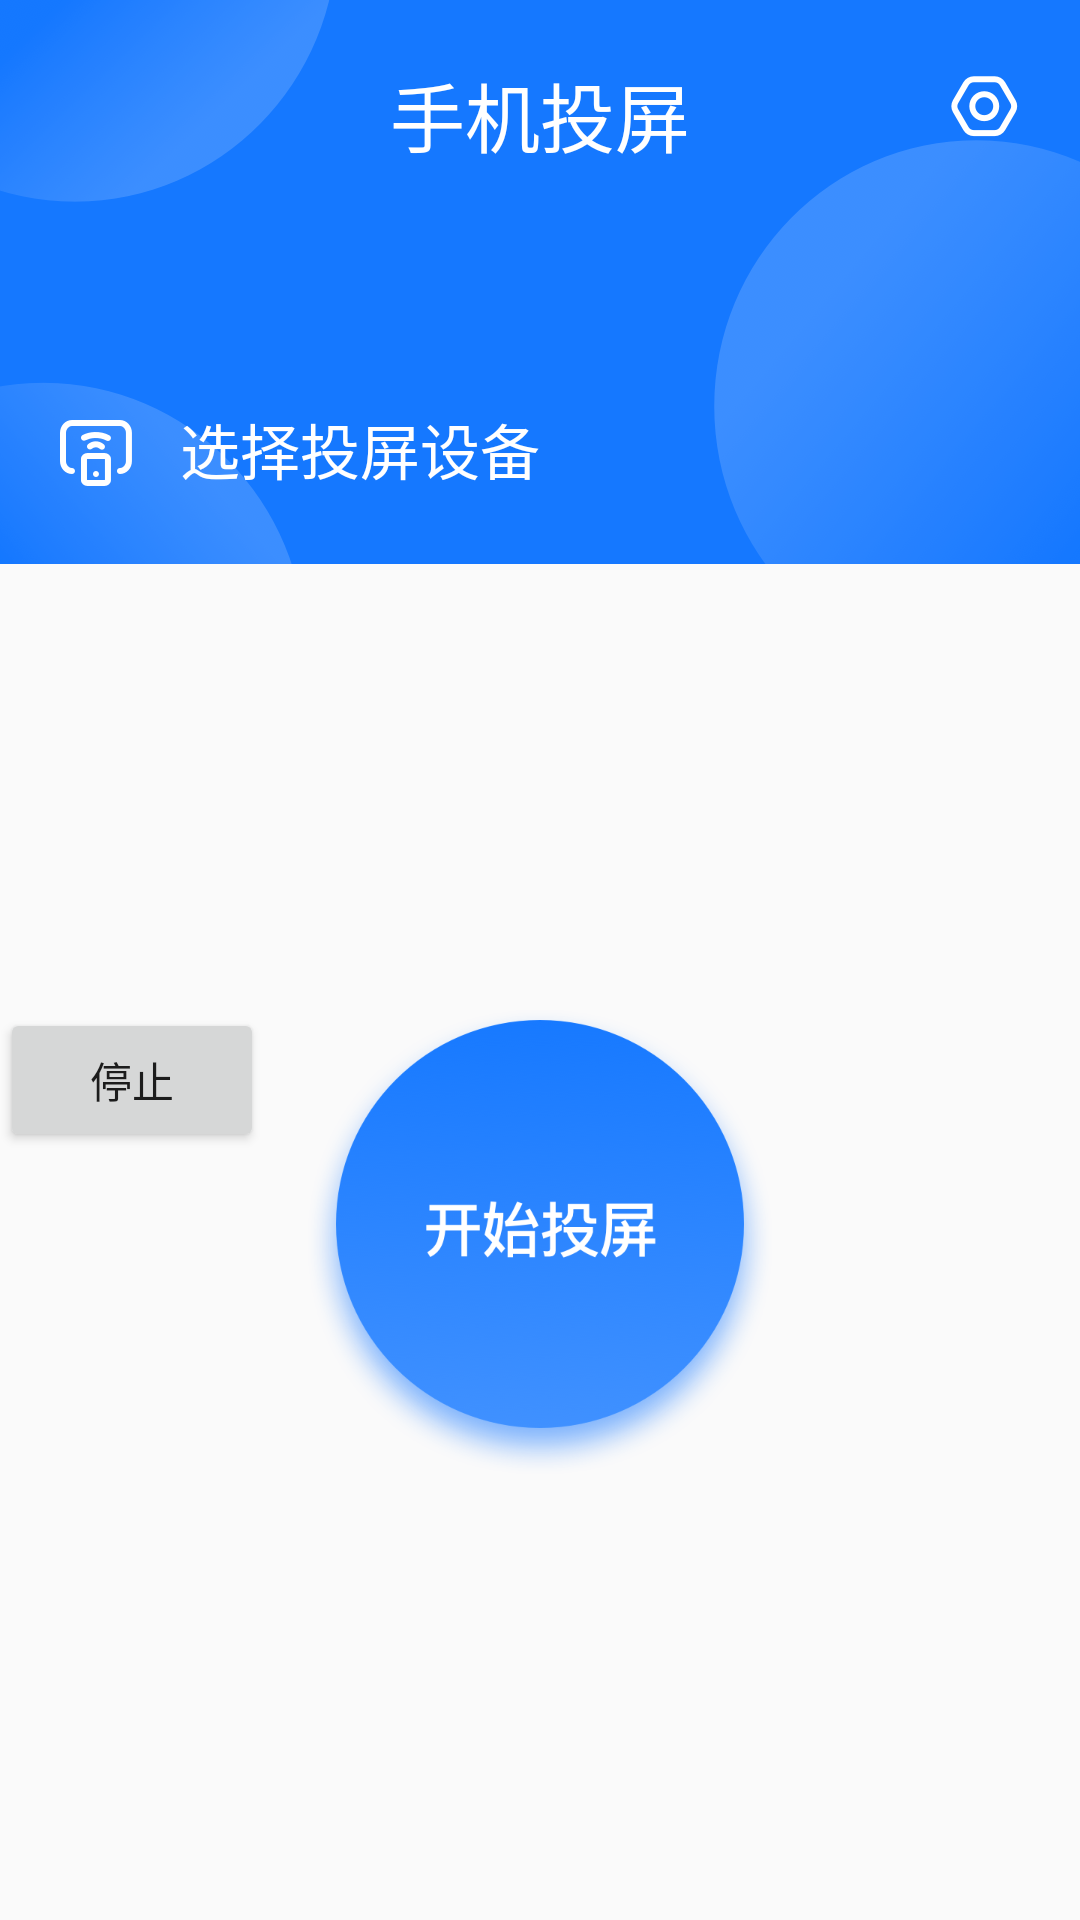

Icon click points for this 1080 × 1920 phone screenshot, format (x=x, y=y):
setting: (x=984, y=106)
